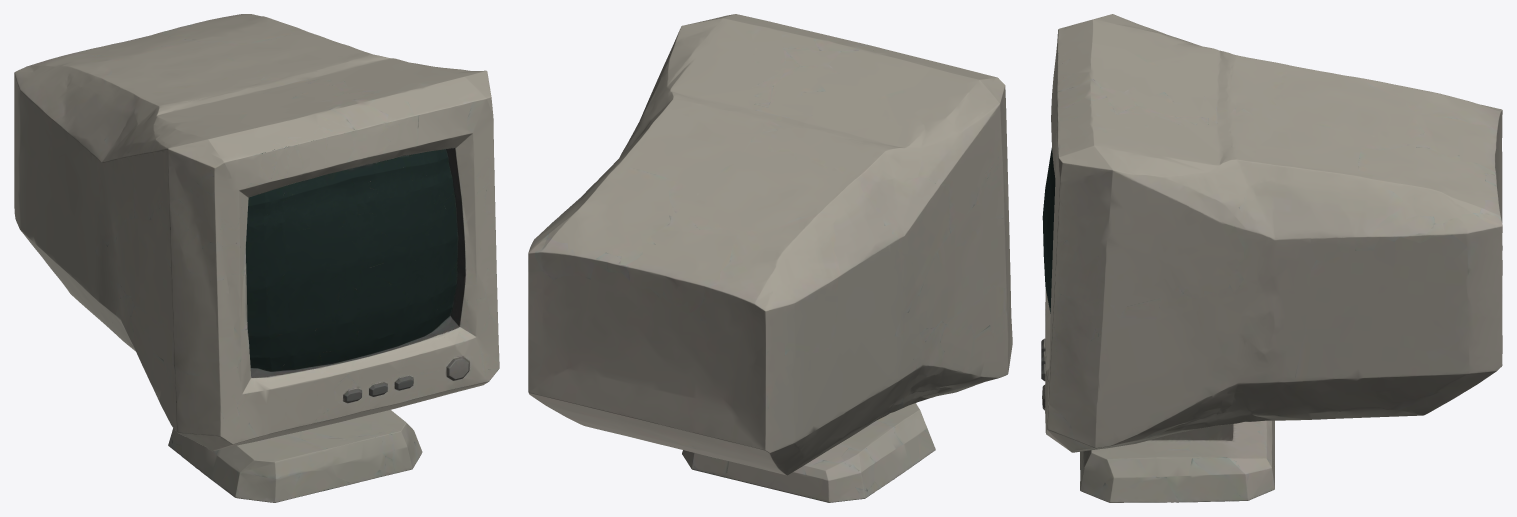
Rendered from CRT-monitor.glb.
The picture shows the model from 3 angles, left to right: view 1: azimuth 30°, elevation 25°; view 2: azimuth 150°, elevation 25°; view 3: azimuth 270°, elevation 25°; orthographic projection.
Parts seen in each view (by area): view 1: Mesh_0; view 2: Mesh_0; view 3: Mesh_0.
Part boxes in pixels (box(x1,y1,x2,y2)): Mesh_0: box(14, 14, 499, 502); Mesh_0: box(528, 14, 1012, 502); Mesh_0: box(1041, 14, 1502, 502).
Bounding box in the file's own units: 1.53 × 1.71 × 1.9.
Materials: 1 (1 with a texture image).
